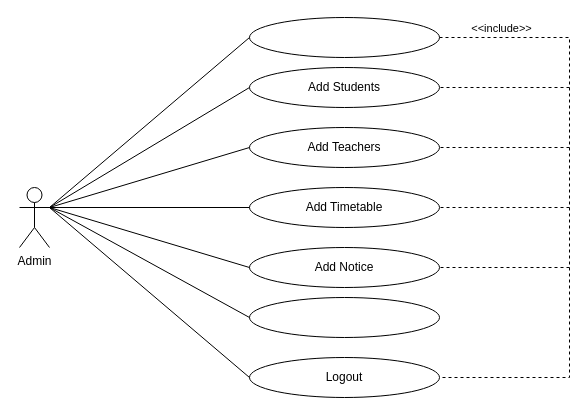
Some shapes in this 588 by 415 pixel diagram are drawn without their labels. The shapes that lost their labels are listed below. From the top down, each one's centre as x and y in pixels, then its label:
point (344, 37): Login
point (344, 317): Forget password
